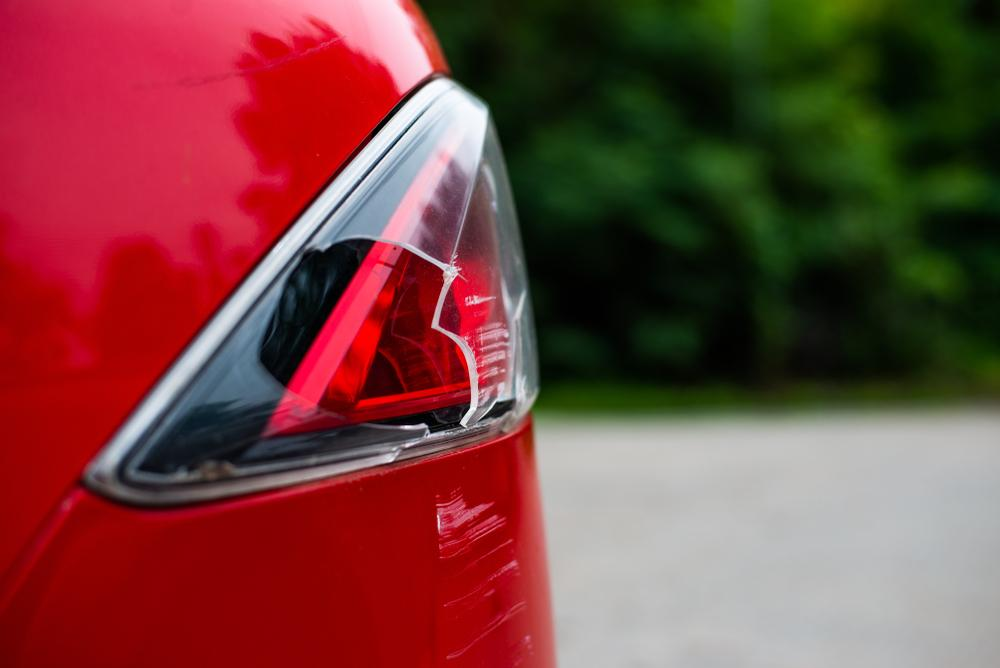lamp broken: (85, 74, 540, 505)
scratch: (429, 479, 536, 668)
